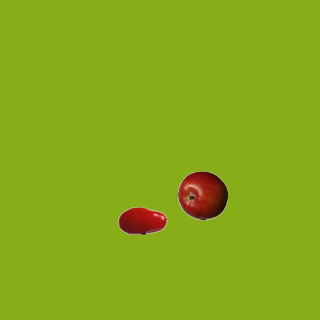Apple Braeburn: (177, 170, 227, 220)
Tomato 2: (117, 195, 167, 245)
